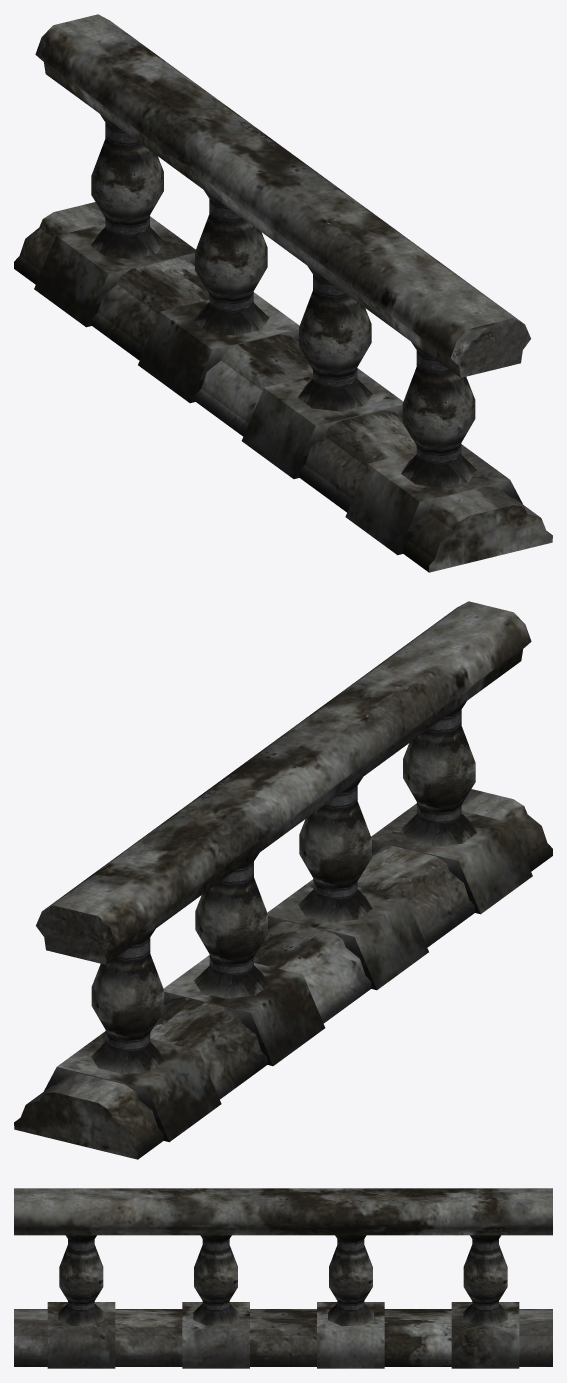
Rendered from railing.dae.
3 views of the same model, one above another, from view 1: azimuth 30°, elevation 25°; view 2: azimuth 150°, elevation 25°; view 3: azimuth 270°, elevation 25° (orthographic). The views are drawn at different scales.
Visible parts, largest first — view 1: polySurface14; view 2: polySurface14; view 3: polySurface14.
Part boxes in pixels (x1=…): polySurface14: x1=14, y1=14, x2=552, y2=572; polySurface14: x1=14, y1=601, x2=552, y2=1159; polySurface14: x1=14, y1=1188, x2=552, y2=1368.
Size of the model in its own units: 0.7518 by 1.24 by 4.
